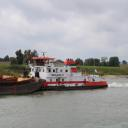tugboat: (24, 52, 110, 94)
